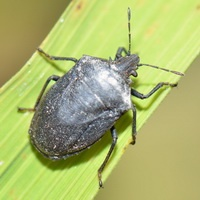insect: (29, 1, 182, 159), (133, 2, 195, 70)
